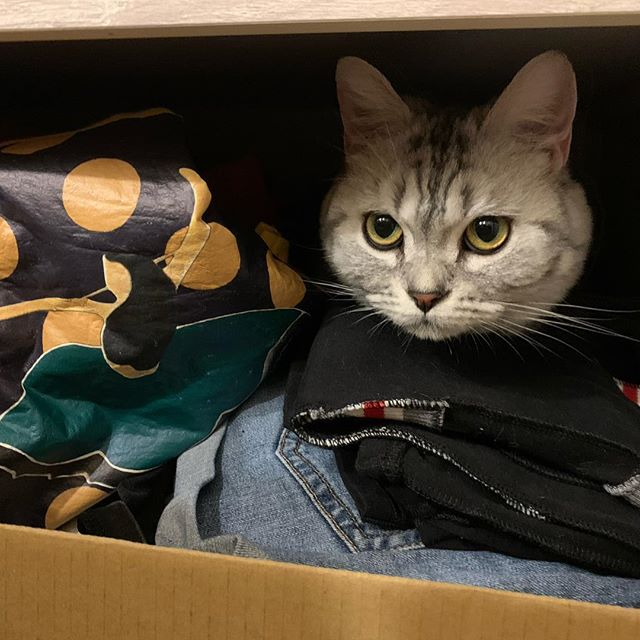cat: (312, 54, 603, 356)
